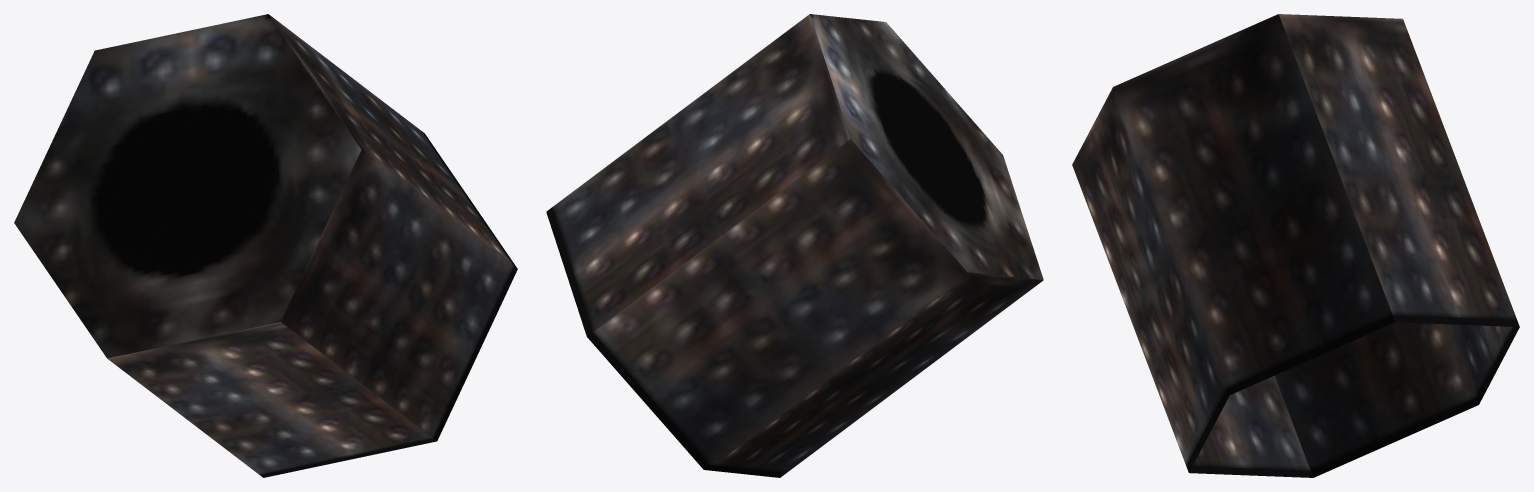
The picture shows the model from 3 angles, left to right: view 1: azimuth 30°, elevation 25°; view 2: azimuth 150°, elevation 25°; view 3: azimuth 270°, elevation 25°; orthographic projection. The views are drawn at different scales.
Visible parts, largest first — view 1: Cy33; view 2: Cy33; view 3: Cy33.
Part boxes in pixels (x1,y1,x2,y2): Cy33: (14,14,517,477); Cy33: (546,14,1043,477); Cy33: (1072,14,1519,477).
Bounding box in the file's own units: 10.31 × 10.9 × 9.67.
